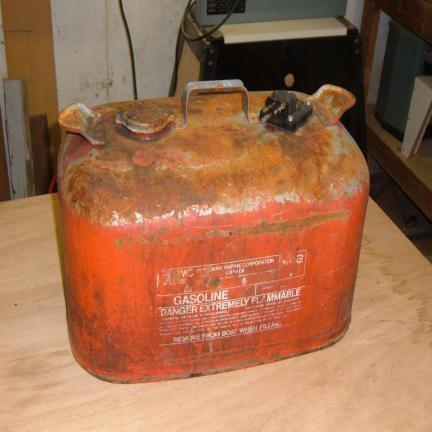karat: (58, 80, 369, 383)
